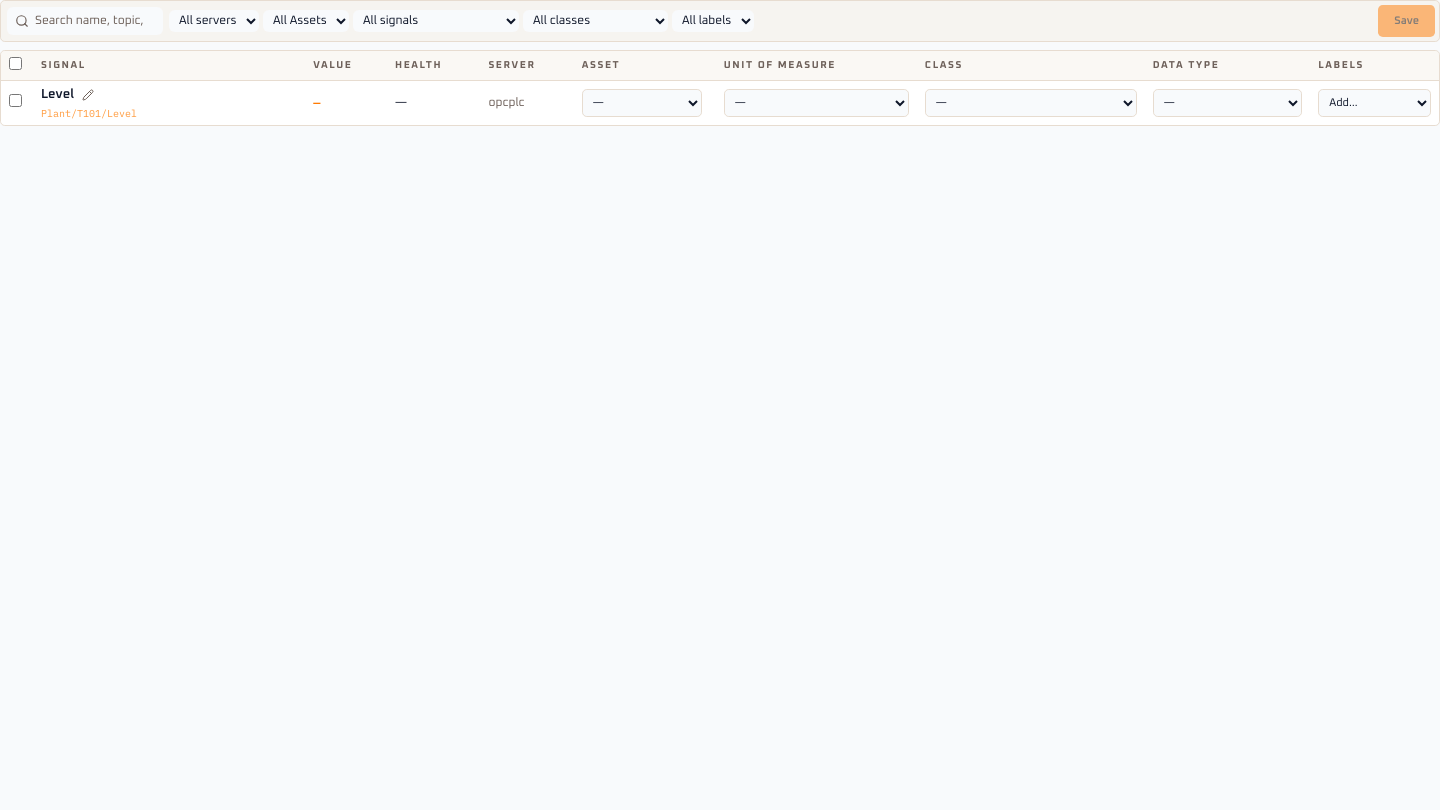
SignalsTab › places bulk editors on one header row and deletes selected signals after confirm
Expected: the button "Level" is shown, [41,86,74,104]
Click the checkbox named "select level" at (16, 100), box [9,94,22,107]
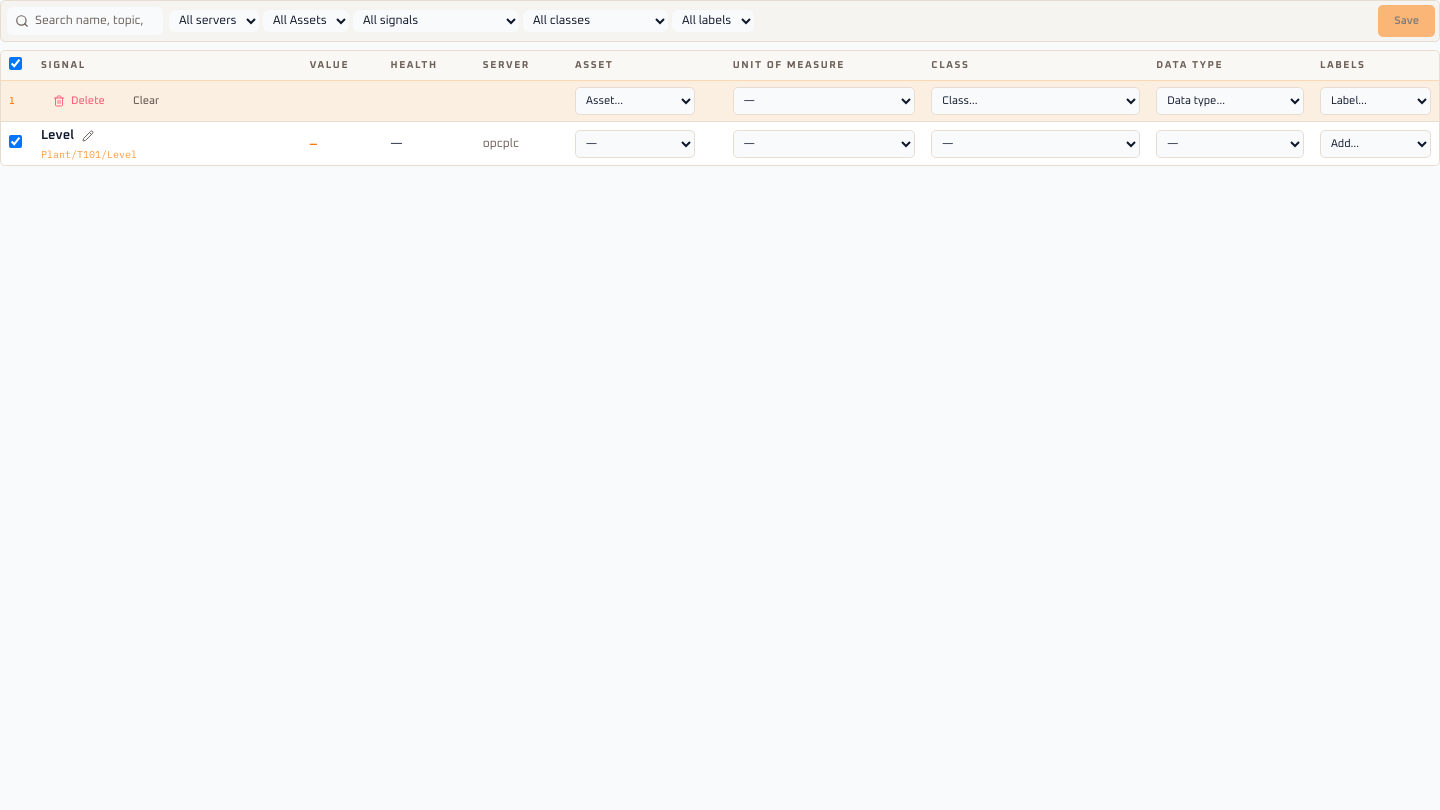
Expected: the element named "Apply Asset" is shown, [1,51,1439,121]
Expected: the dropdown named "Apply class" is shown, [931,87,1140,115]
Expected: the dropdown named "Apply Unit of Measure" is shown, [733,87,915,115]
Click the button with aria-label "delete selected" at (79, 101), box [41,85,117,117]
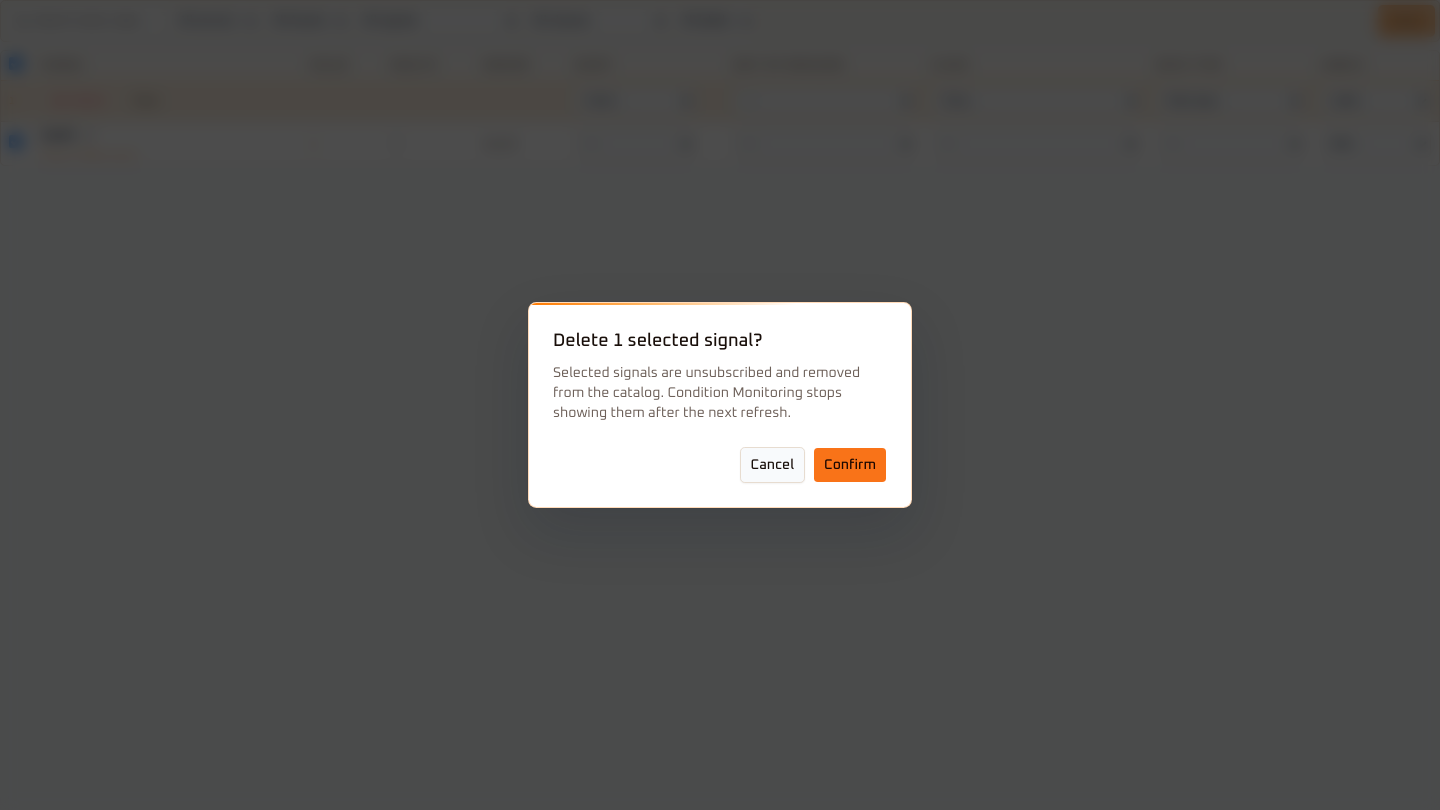
Expected: the heading "Delete 1 selected signal?" is shown, [553,332,762,350]
Click the button "Confirm" at (850, 465), box [813,447,887,483]
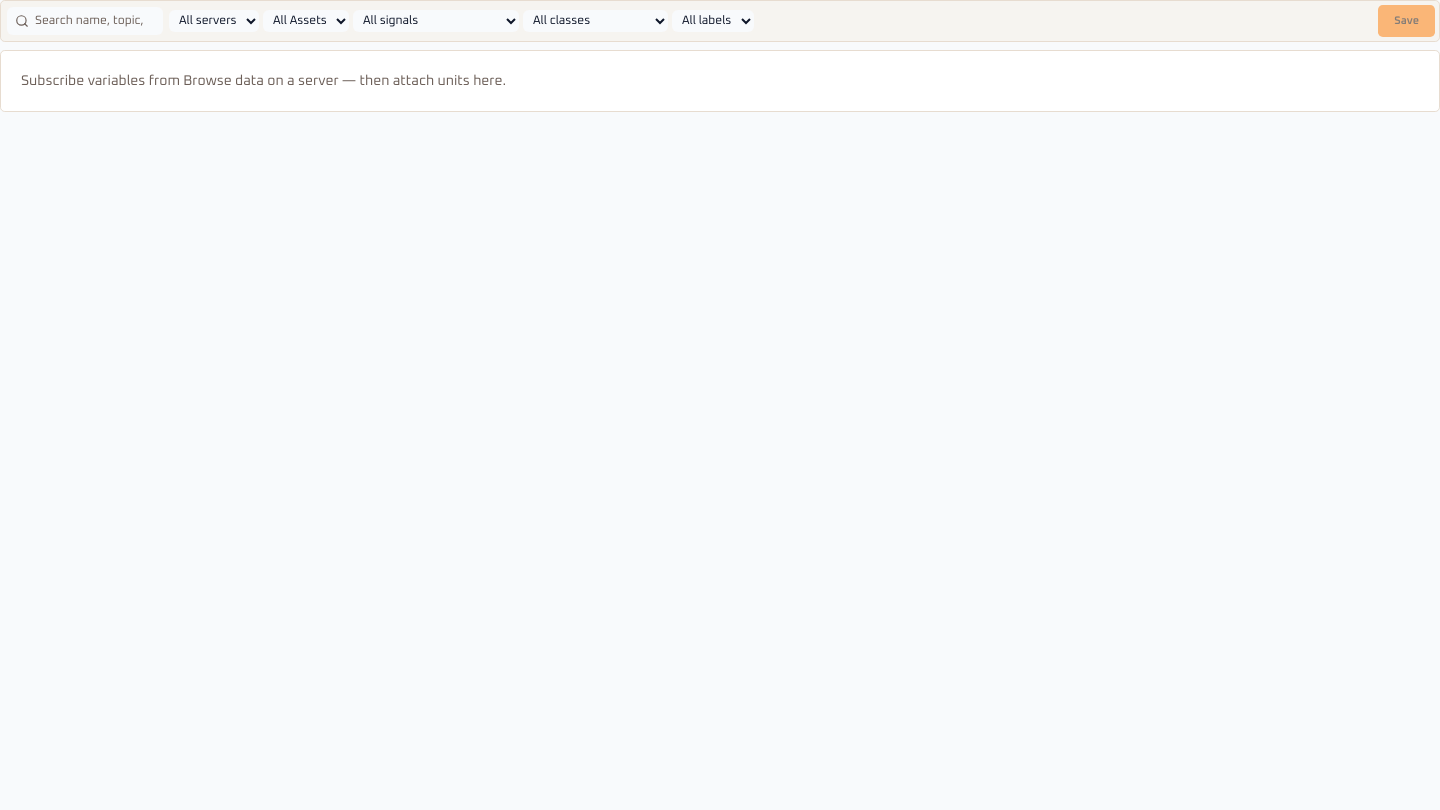
Expected: the button "Level" is gone
